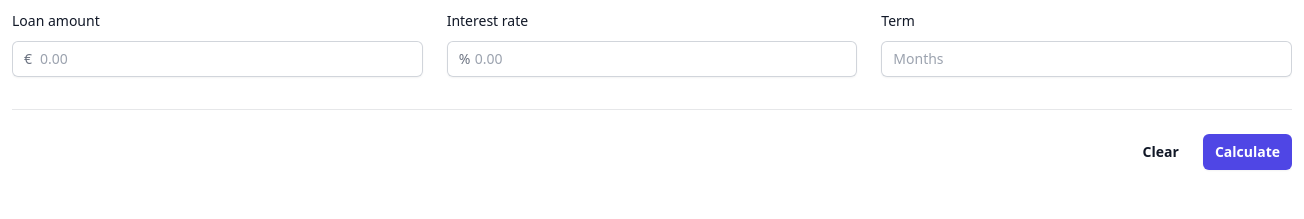
Test: LoanCalculator Component › handles unexpected server response
Type "1000" into the number field labelled "Loan amount" at (217, 59), box [12,41,423,77]
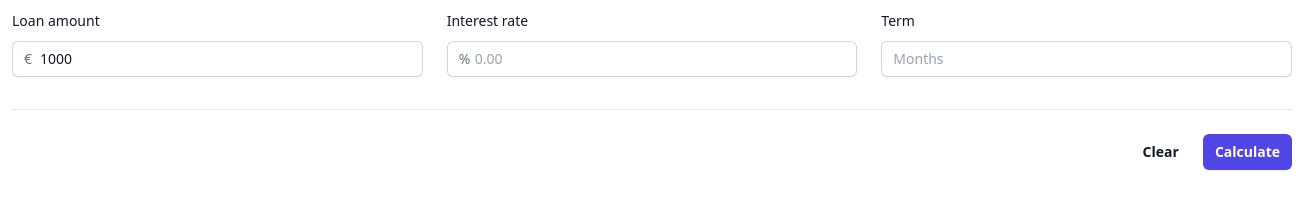
Type "5" into the number field labelled "Interest rate" at (652, 59), box [447,41,857,77]
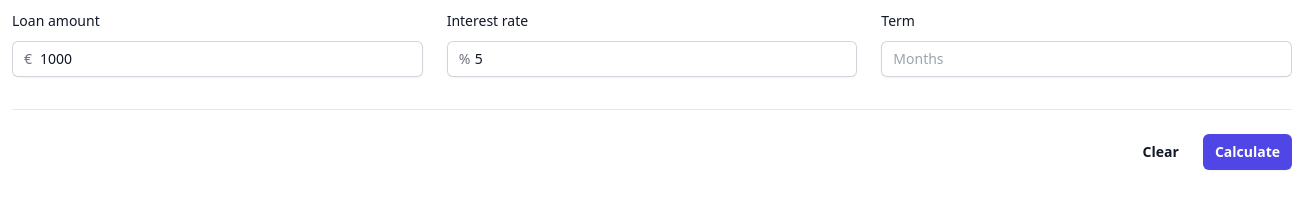
Type "12" into the number field labelled "Term" at (1087, 59), box [881,41,1292,77]
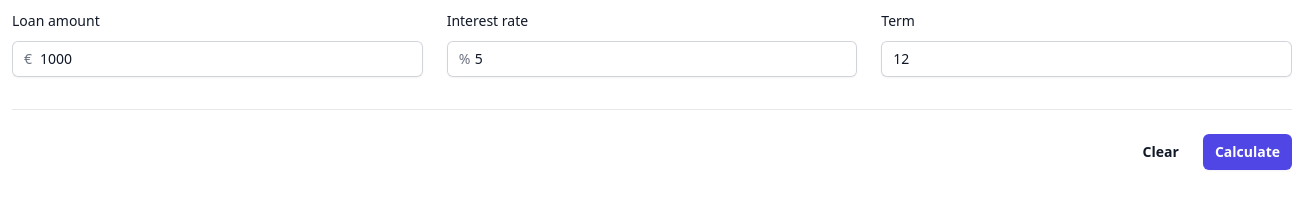
Submit the form from the button "Calculate", box [1203,134,1292,170]
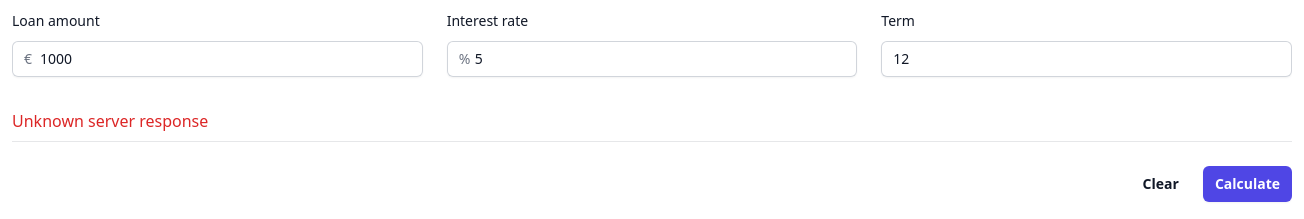
Expected: the text "Unknown server response" is shown, [12,110,208,132]
